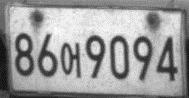0: (109, 36, 129, 79)
4: (155, 36, 178, 82)
6: (37, 34, 57, 78)
8: (14, 33, 35, 77)
9: (84, 34, 107, 80), (133, 35, 153, 80)
어: (60, 42, 81, 78)
